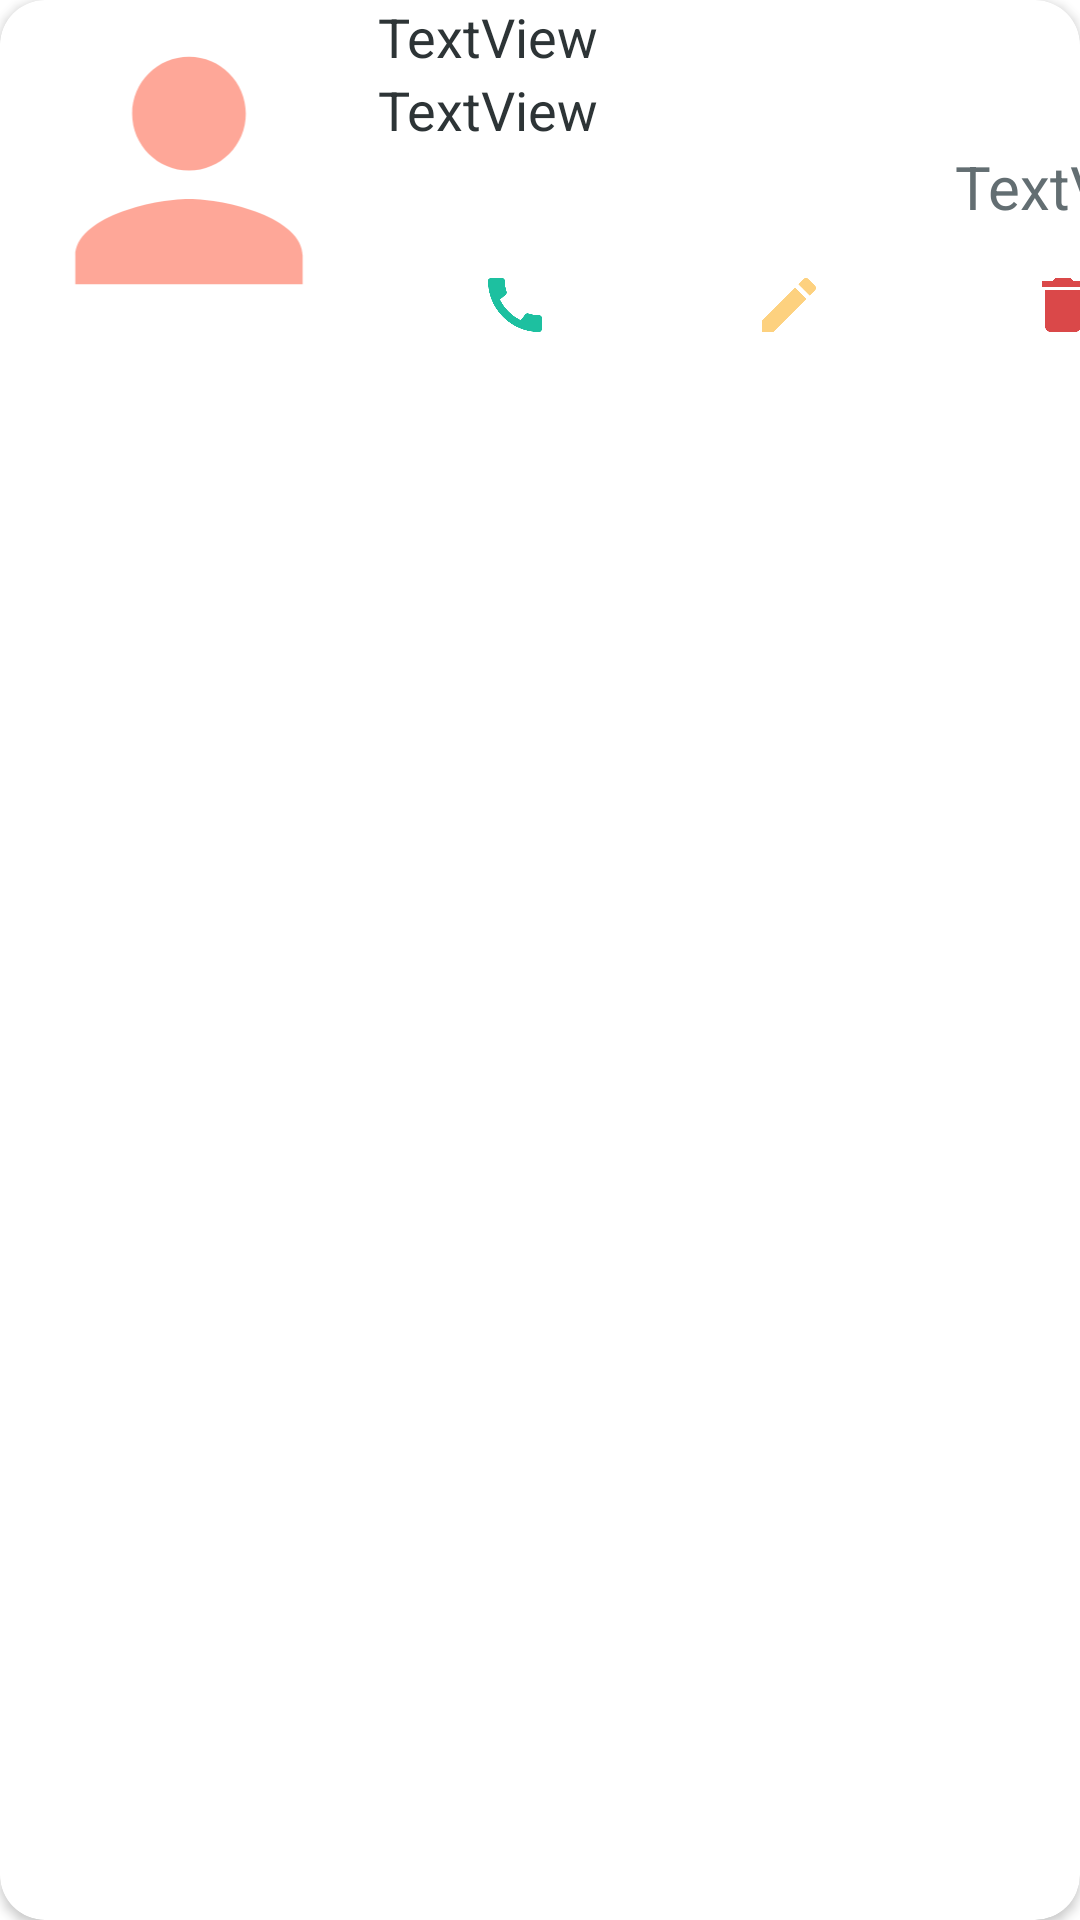

Icon click points for this 1080px×1920px phone screenshot, format [x,y]:
call: [515,305]
edit: [789,305]
person: [151,160]
